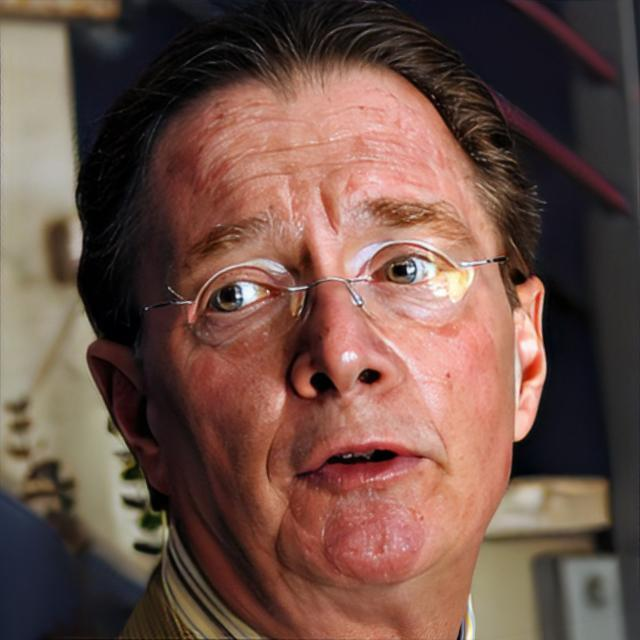fear: (131, 42, 518, 592)
